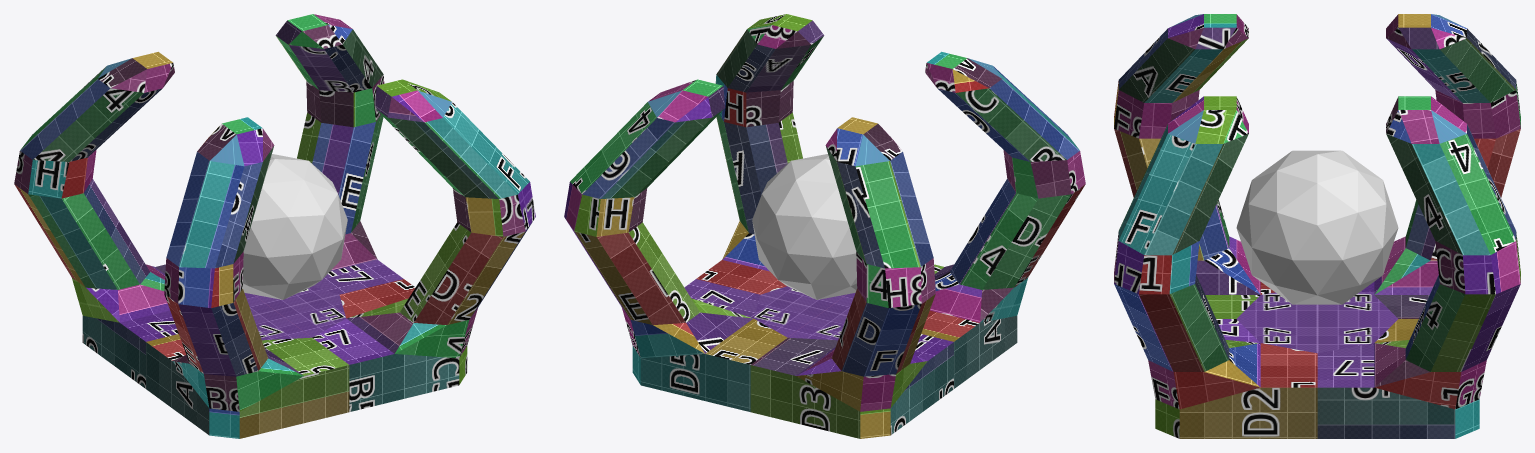
Rendered from bed.glb.
3 renders of one model, left to right at view 1: azimuth 30°, elevation 25°; view 2: azimuth 150°, elevation 25°; view 3: azimuth 270°, elevation 25°, orthographic. The views are drawn at different scales.
Visible parts, largest first — view 1: Holder-col, Centre-col; view 2: Holder-col, Centre-col; view 3: Holder-col, Centre-col.
Part boxes in pixels (box(x1,y1,x2,y2)): Holder-col: box(14, 14, 535, 438); Centre-col: box(242, 154, 347, 299); Holder-col: box(564, 14, 1085, 438); Centre-col: box(752, 154, 857, 299); Holder-col: box(1114, 14, 1520, 438); Centre-col: box(1236, 150, 1398, 304).
Bounding box in the file's own units: 5.54 × 4.2 × 5.02.
1 material, 1 textured.
